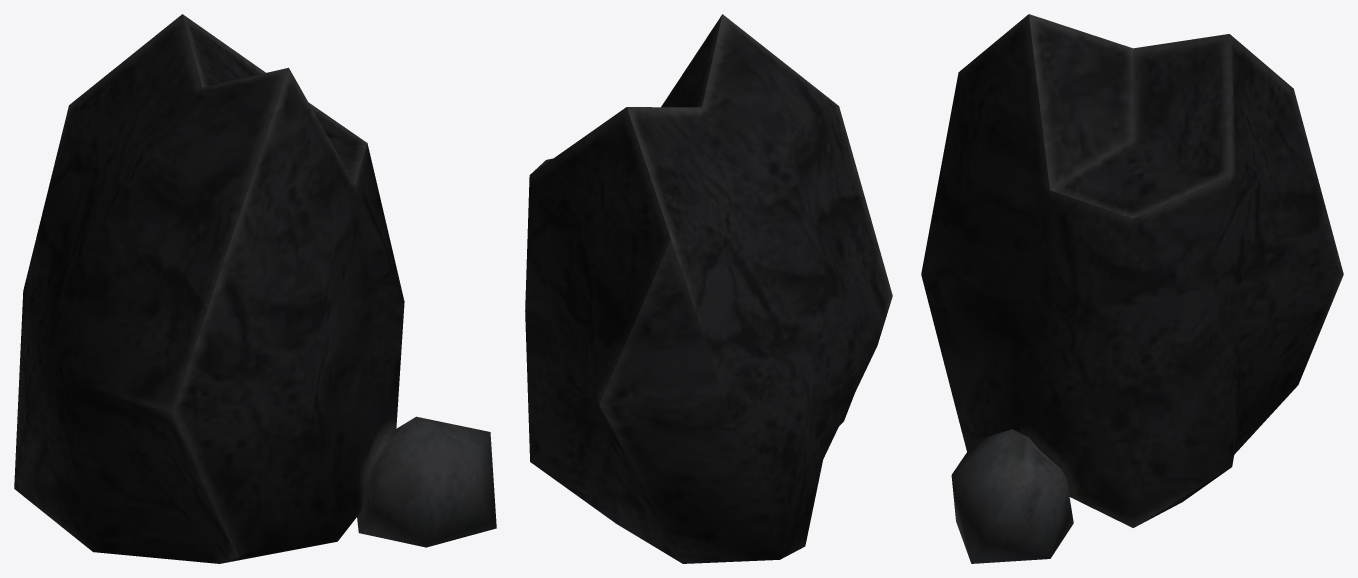
File: lava_rock_2.glb
3 views of the same model, side by side, from view 1: azimuth 30°, elevation 25°; view 2: azimuth 150°, elevation 25°; view 3: azimuth 270°, elevation 25° (orthographic). The views are drawn at different scales.
Parts seen in each view (by area): view 1: te_prop_lava_rock_2; view 2: te_prop_lava_rock_2; view 3: te_prop_lava_rock_2.
Part boxes in pixels (x1=…): te_prop_lava_rock_2: x1=14, y1=14, x2=496, y2=563; te_prop_lava_rock_2: x1=525, y1=14, x2=892, y2=563; te_prop_lava_rock_2: x1=921, y1=14, x2=1343, y2=563.
Bounding box in the file's own units: 0.1772 × 0.2161 × 0.1751.
Materials: 1 (1 with a texture image).
